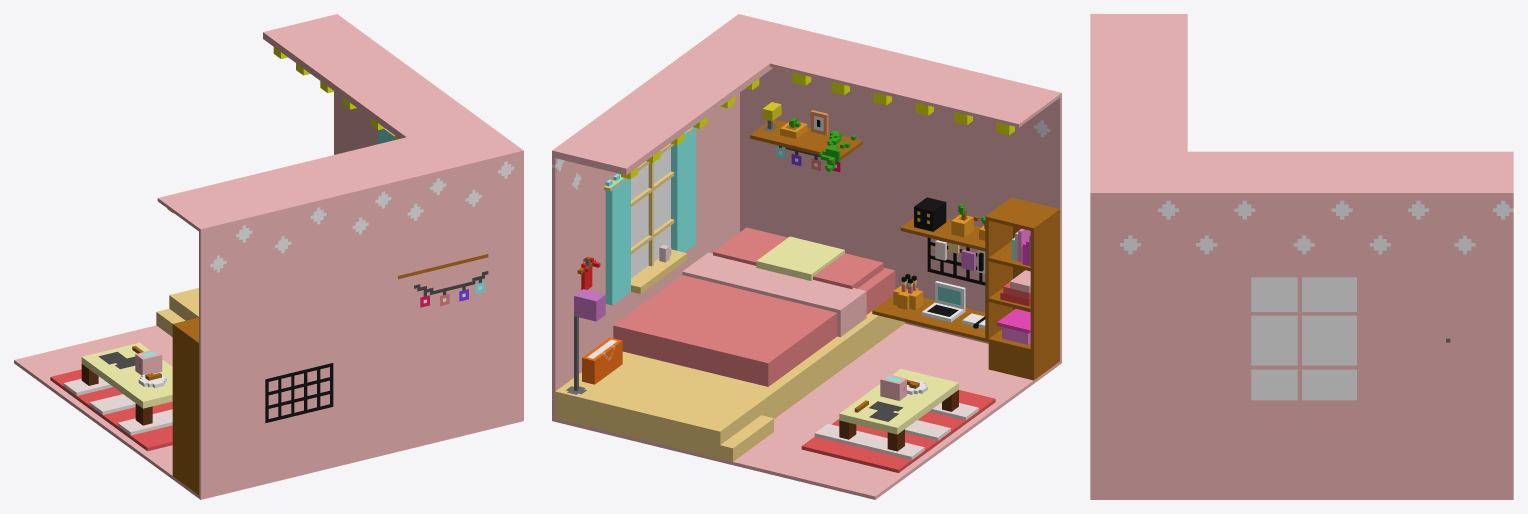
File: escenario.glb
The picture shows the model from 3 angles, left to right: view 1: azimuth 30°, elevation 25°; view 2: azimuth 150°, elevation 25°; view 3: azimuth 270°, elevation 25°; orthographic projection. The views are drawn at different scales.
Parts seen in each view (by area): view 1: defaultobject; view 2: defaultobject; view 3: defaultobject.
Part boxes in pixels (<box>): defaultobject: <box>14,14,523,499</box>; defaultobject: <box>552,14,1061,499</box>; defaultobject: <box>1090,14,1513,499</box>.
Bounding box in the file's own units: 10 × 8 × 10.
Materials: 1 (1 with a texture image).
